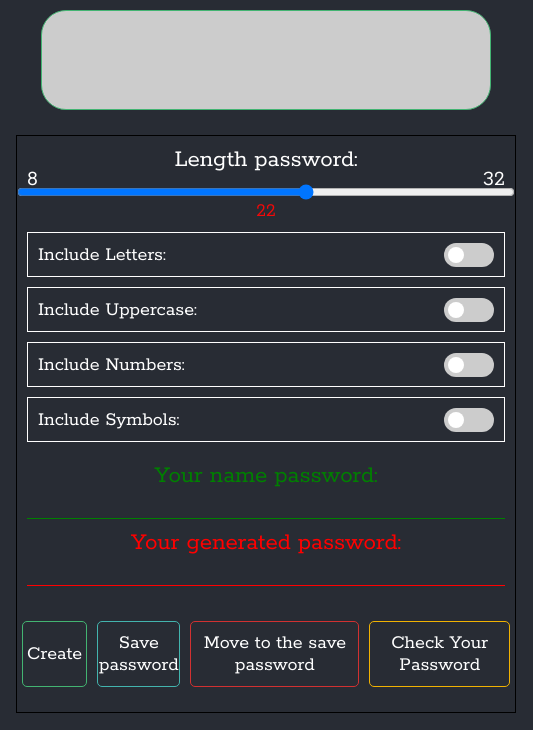
it: Box tests - action › render 14 after change input range on 14
Set the slider with test id "range-test" to "14" at (146, 192), box [17, 184, 515, 200]
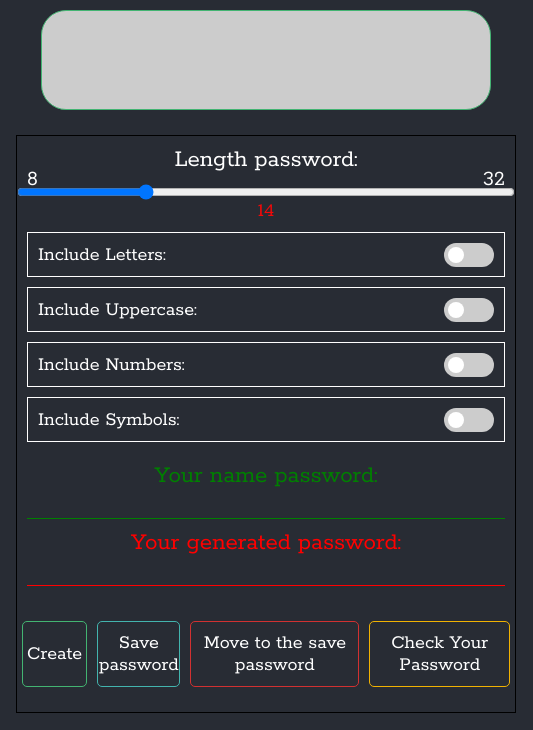
Check: the text "14" is shown, box [258, 200, 274, 222]
